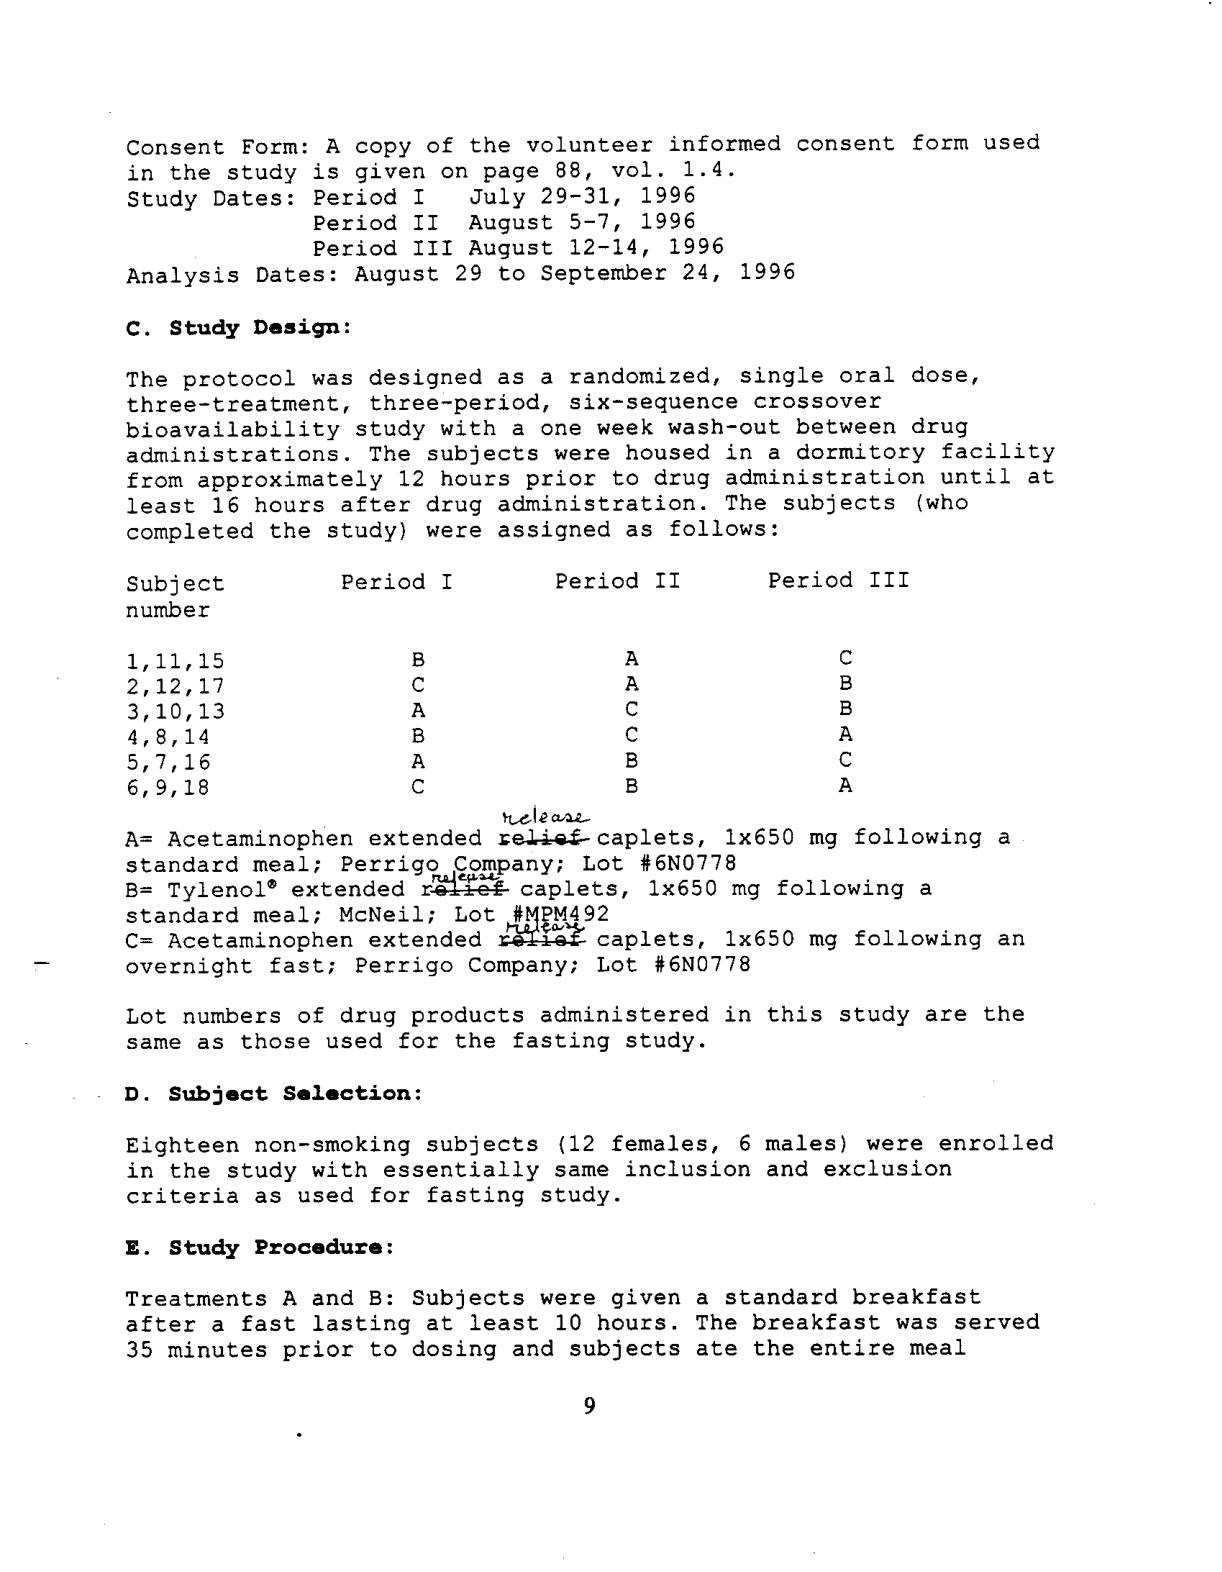nolines: (122, 572, 909, 795)
